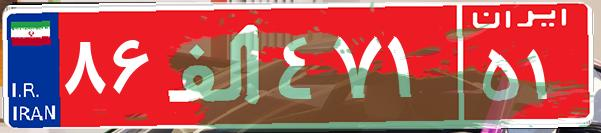1: (385, 28, 445, 110), (525, 38, 570, 115)
4: (273, 28, 330, 110)
5: (475, 38, 525, 113)
6: (110, 28, 158, 105)
7: (330, 28, 385, 110)
8: (57, 26, 110, 107)
الف: (158, 15, 273, 115)
